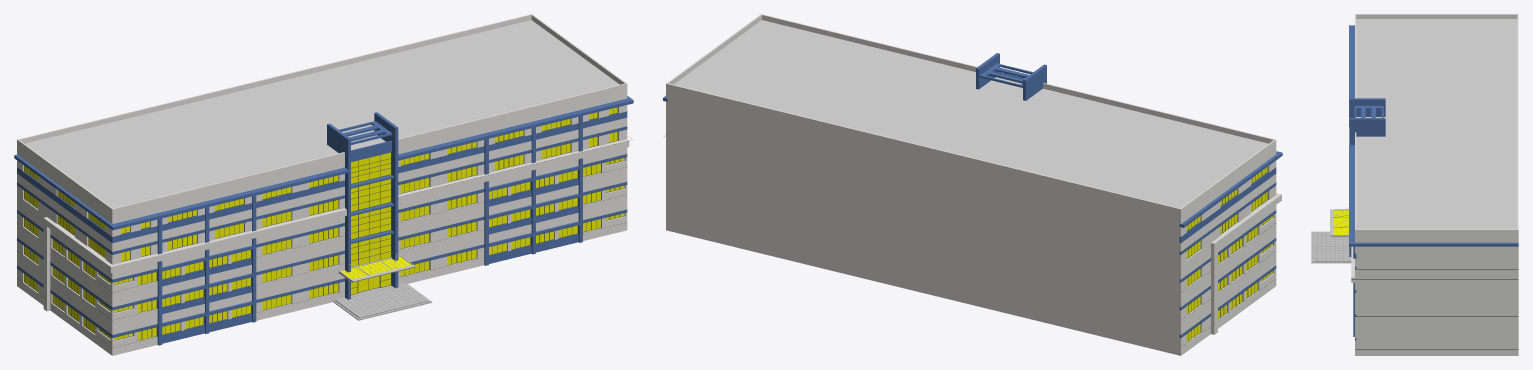
File: bangongloulan5.glb
3 renders of one model, left to right at view 1: azimuth 30°, elevation 25°; view 2: azimuth 150°, elevation 25°; view 3: azimuth 270°, elevation 25°, orthographic. The views are drawn at different scales.
Visible parts, largest first — view 1: Obj3d66-593688-361-762, Obj3d66-593688-347-860, Obj3d66-593688-349-459, Obj3d66-593688-355-631, Obj3d66-593688-231-277, Obj3d66-593688-116-726, Obj3d66-593688-373-906, Obj3d66-593688-352-281, Obj3d66-593688-354-866, Obj3d66-593688-348-956, Obj3d66-593688-308-885, Obj3d66-593688-306-971 (+34 smaller); view 2: Obj3d66-593688-355-631, Obj3d66-593688-361-762, Obj3d66-593688-348-956, Obj3d66-593688-347-860, Obj3d66-593688-349-459, Obj3d66-593688-308-885, Obj3d66-593688-286-716, Obj3d66-593688-306-971, Obj3d66-593688-350-491, Obj3d66-593688-351-113, Obj3d66-593688-296-796, Obj3d66-593688-364-53 (+3 smaller); view 3: Obj3d66-593688-361-762, Obj3d66-593688-346-170, Obj3d66-593688-350-491, Obj3d66-593688-373-906, Obj3d66-593688-353-678, Obj3d66-593688-348-956, Obj3d66-593688-365-353, Obj3d66-593688-354-866, Obj3d66-593688-364-53, Obj3d66-593688-352-281, Obj3d66-593688-355-631, Obj3d66-593688-1027-295 (+2 smaller).
Boxes of the visible parts, x1,y1,x2,y2 form: Obj3d66-593688-361-762: (25, 20, 619, 208); Obj3d66-593688-347-860: (112, 152, 344, 223); Obj3d66-593688-349-459: (398, 83, 627, 154); Obj3d66-593688-355-631: (19, 14, 531, 143); Obj3d66-593688-231-277: (398, 139, 629, 202); Obj3d66-593688-116-726: (112, 208, 346, 271); Obj3d66-593688-373-906: (335, 283, 428, 318); Obj3d66-593688-352-281: (114, 167, 348, 229); Obj3d66-593688-354-866: (398, 99, 629, 160); Obj3d66-593688-348-956: (17, 139, 113, 223); Obj3d66-593688-308-885: (43, 217, 115, 311); Obj3d66-593688-306-971: (50, 247, 111, 306); Obj3d66-593688-355-631: (667, 83, 1179, 355); Obj3d66-593688-361-762: (673, 20, 1268, 208); Obj3d66-593688-348-956: (1179, 139, 1276, 223); Obj3d66-593688-347-860: (1043, 83, 1274, 143); Obj3d66-593688-349-459: (762, 14, 977, 71); Obj3d66-593688-308-885: (1211, 193, 1281, 334); Obj3d66-593688-286-716: (1218, 245, 1275, 307); Obj3d66-593688-306-971: (1218, 217, 1275, 279); Obj3d66-593688-350-491: (666, 14, 762, 98); Obj3d66-593688-351-113: (1179, 151, 1282, 227); Obj3d66-593688-296-796: (1218, 273, 1275, 328); Obj3d66-593688-364-53: (1023, 65, 1046, 100); Obj3d66-593688-361-762: (1356, 19, 1517, 229); Obj3d66-593688-346-170: (1356, 246, 1518, 355); Obj3d66-593688-350-491: (1355, 229, 1518, 242); Obj3d66-593688-373-906: (1313, 232, 1351, 261); Obj3d66-593688-353-678: (1349, 242, 1518, 246); Obj3d66-593688-348-956: (1355, 14, 1518, 18); Obj3d66-593688-365-353: (1349, 118, 1385, 136); Obj3d66-593688-354-866: (1349, 145, 1354, 241); Obj3d66-593688-364-53: (1349, 98, 1385, 116); Obj3d66-593688-352-281: (1349, 27, 1354, 126); Obj3d66-593688-355-631: (1517, 14, 1518, 229); Obj3d66-593688-1027-295: (1333, 210, 1348, 234).
Size of the model in its own units: 1.2 by 0.3567 by 0.4819.
Materials: 8 (2 with a texture image).
